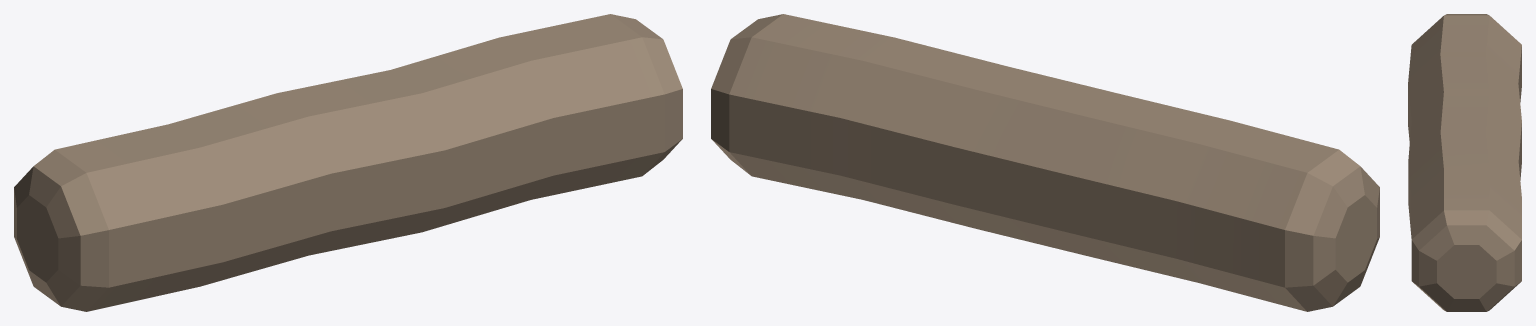
Rendered from Pillow_01.fbx.
The picture shows the model from 3 angles, left to right: view 1: azimuth 30°, elevation 25°; view 2: azimuth 150°, elevation 25°; view 3: azimuth 270°, elevation 25°; orthographic projection. The views are drawn at different scales.
Parts seen in each view (by area): view 1: Pillow_01_LOD0; view 2: Pillow_01_LOD0; view 3: Pillow_01_LOD0.
Part boxes in pixels (left/top/right/bottom): Pillow_01_LOD0: left=14, top=14, right=682, bottom=311; Pillow_01_LOD0: left=711, top=14, right=1379, bottom=311; Pillow_01_LOD0: left=1408, top=14, right=1521, bottom=311.
Size of what is drawn, in the model's own units: 0.5874 by 0.1289 by 0.1297.
